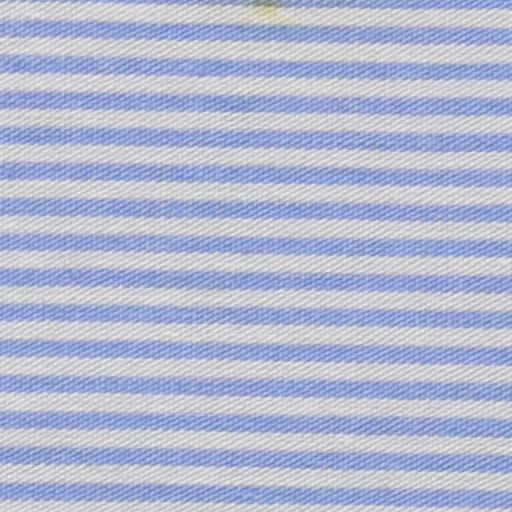defect: (248, 1, 279, 14)
